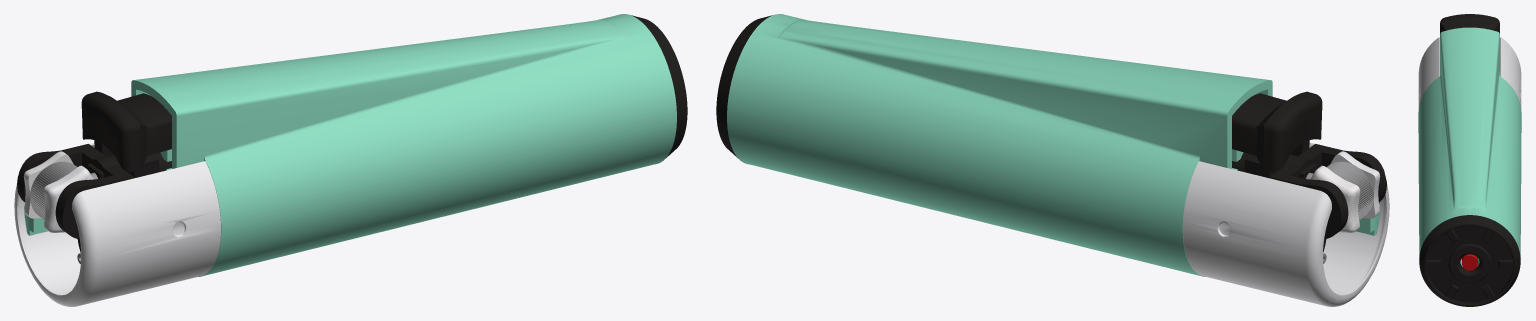
The model's file is clipper_lighter.glb.
3 views of the same model, side by side, from view 1: azimuth 30°, elevation 25°; view 2: azimuth 150°, elevation 25°; view 3: azimuth 270°, elevation 25° (orthographic). The views are drawn at different scales.
Visible parts, largest first — view 1: Object_2; view 2: Object_2; view 3: Object_2.
Boxes of the visible parts, <box> form: Object_2: <box>14,14,687,306</box>; Object_2: <box>716,14,1389,306</box>; Object_2: <box>1418,14,1521,306</box>.
Size of the model in its own units: 76.77 by 22.48 by 16.9.
Materials: 1 (1 with a texture image).
